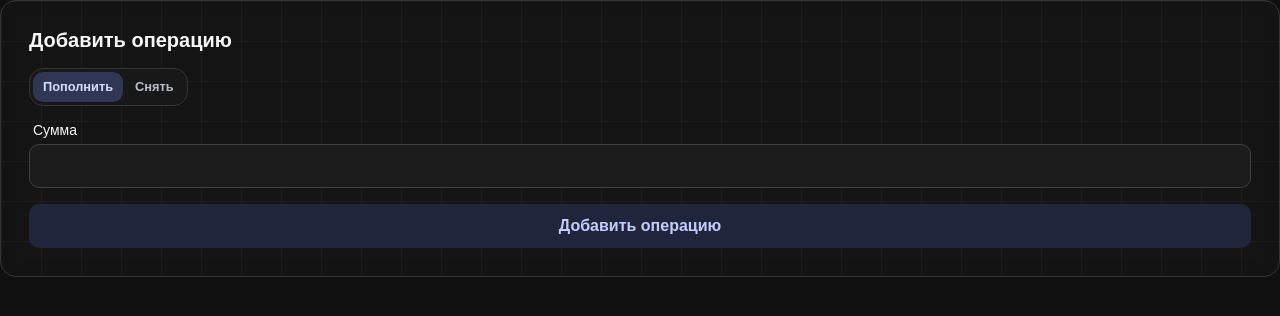
Test: TransactionForm › rejects a non-positive whole withdrawal without changing the ledger
The width and height of the screenshot is (1280, 316).
Click the button "Снять" at x=154, y=87, box [125,72,184,102]
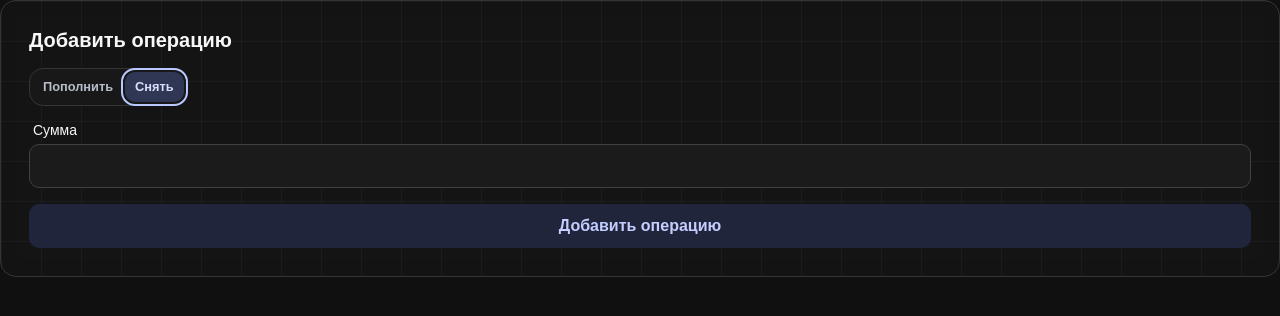
Type "0" into the field labelled "Сумма" at x=640, y=166, box [29,144,1251,188]
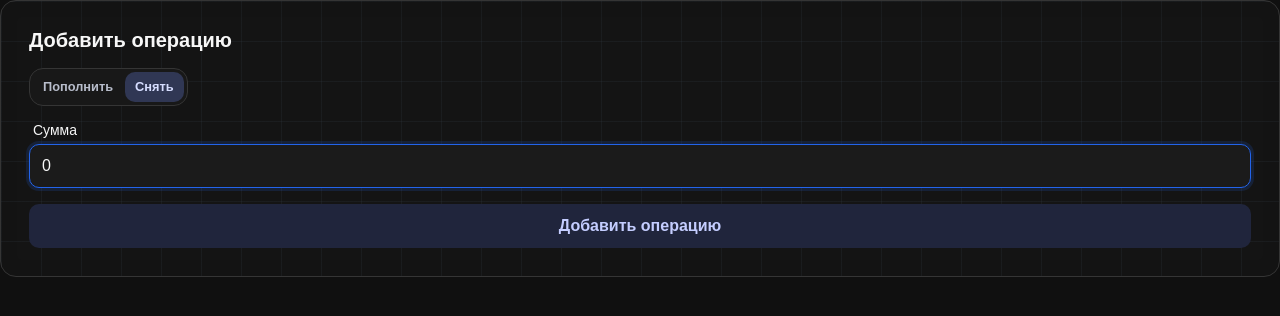
Click the button "Добавить операцию" at x=640, y=226, box [29,204,1251,248]
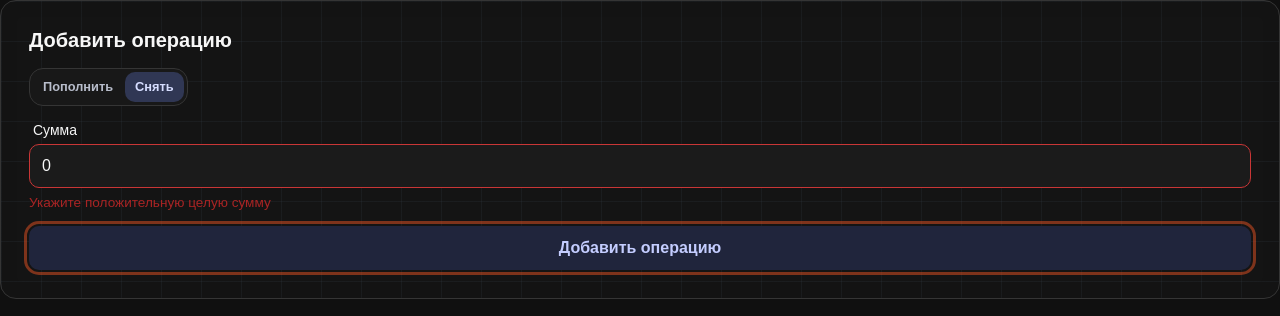
Expected: the message reads "Укажите положительную целую сумму", [29,195,271,210]
